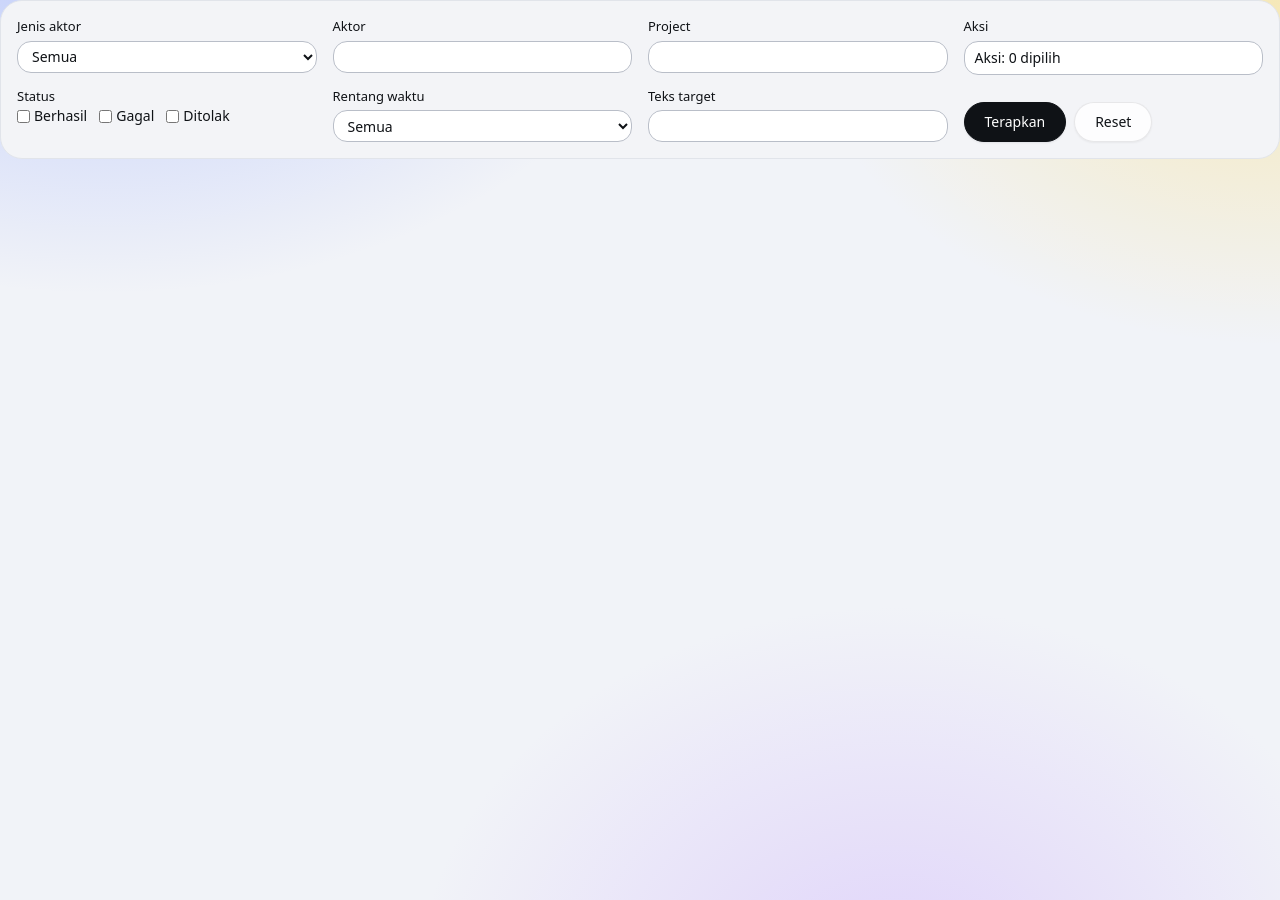
Test: FilterBar › actor suggestion fills type and id; chip removable
Type "claude" into the field labelled "Aktor" at [482, 56], box [332, 40, 632, 72]
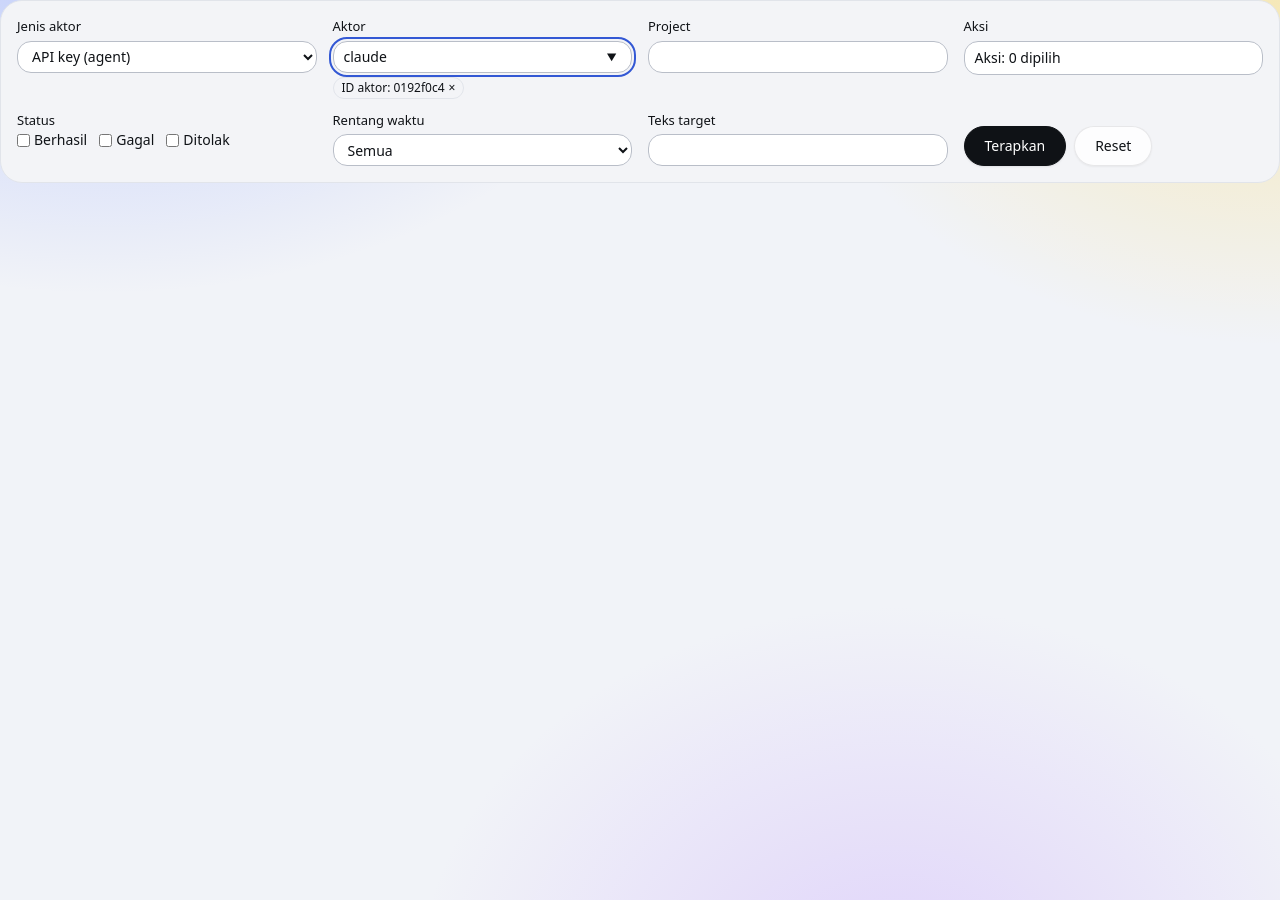
expect the text "ID aktor: 0192f0c4" is shown: met, box [342, 78, 444, 96]
Click the button named "Hapus filter ID aktor" at [452, 88], box [448, 80, 455, 96]
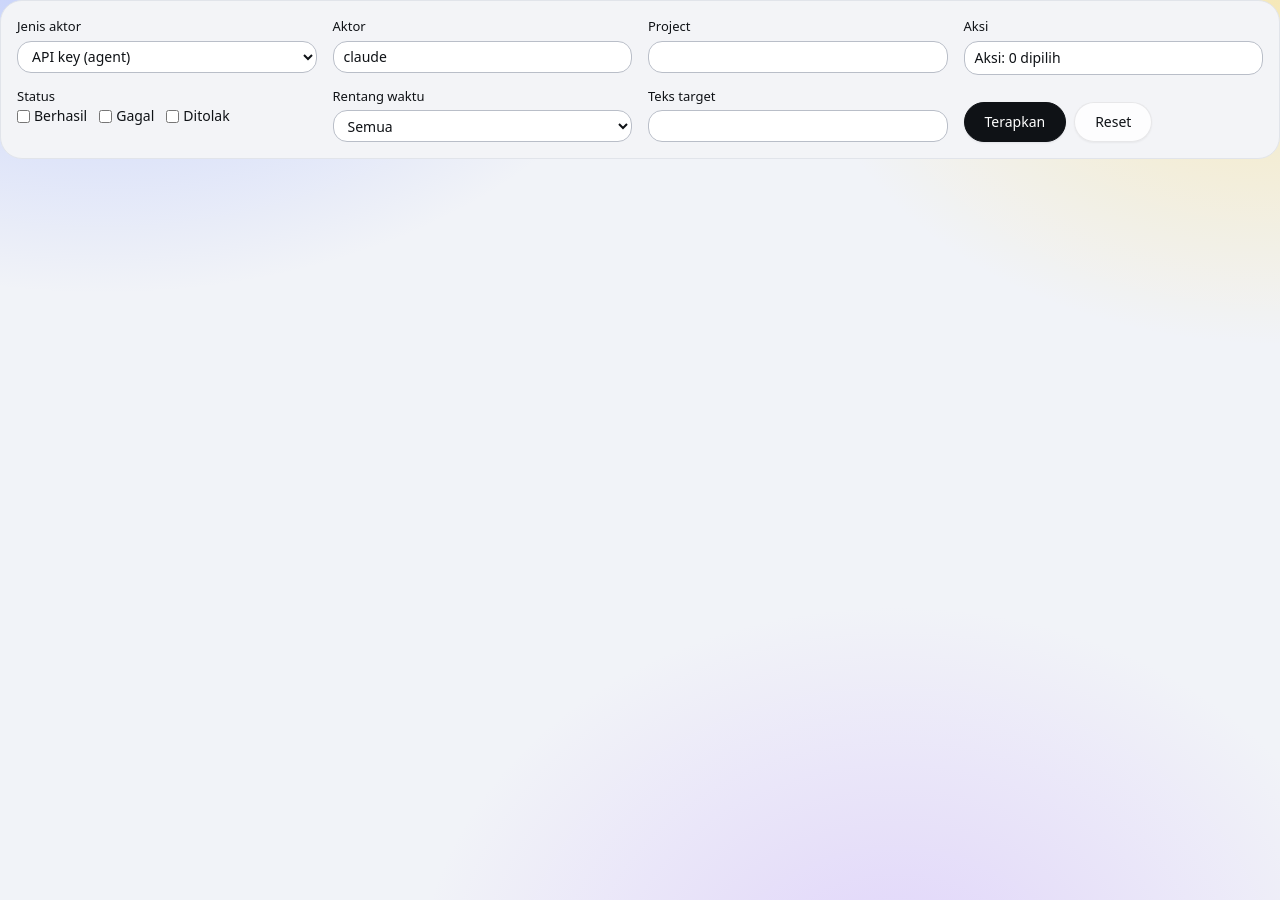
expect the text "ID aktor: 0192f0c4" is gone: met
